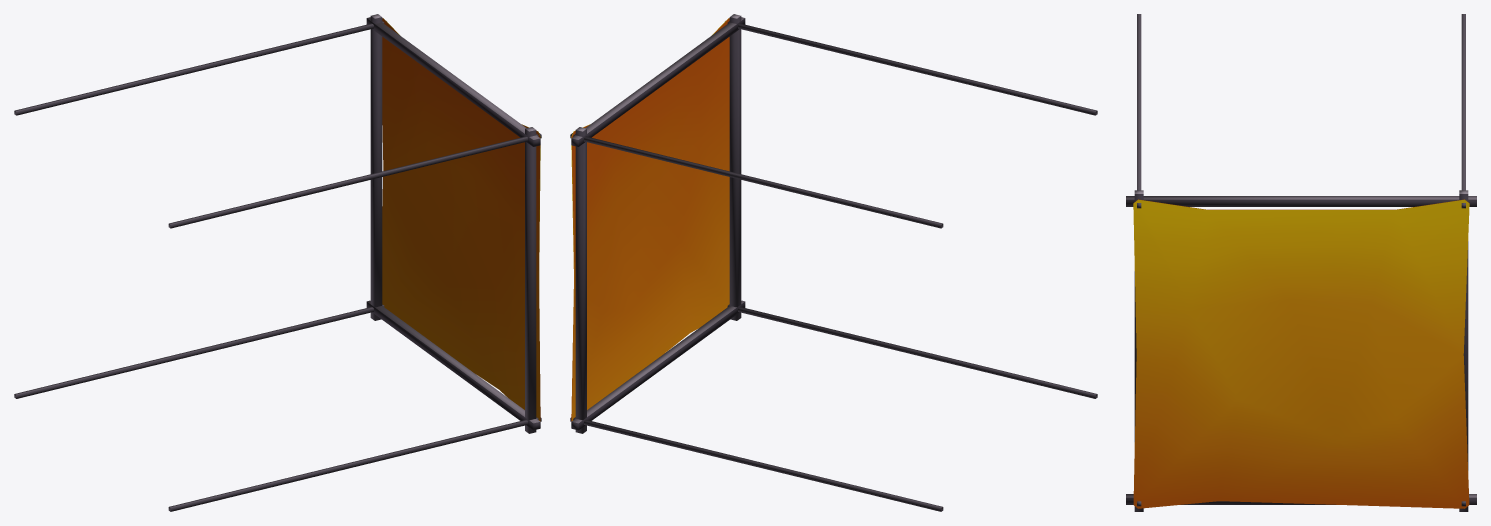
File: Safety_Net_2C.fbx
3 renders of one model, left to right at view 1: azimuth 30°, elevation 25°; view 2: azimuth 150°, elevation 25°; view 3: azimuth 270°, elevation 25°, orthographic. The views are drawn at different scales.
Visible parts, largest first — view 1: Safety_Net_2C; view 2: Safety_Net_2C; view 3: Safety_Net_2C.
Boxes of the visible parts, x1,y1,x2,y2 form: Safety_Net_2C: [14, 14, 541, 511]; Safety_Net_2C: [570, 14, 1097, 511]; Safety_Net_2C: [1126, 14, 1476, 511].
Size of the model in its own units: 516 by 400 by 400.
